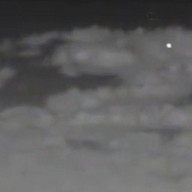Target: (165, 41, 171, 48)
